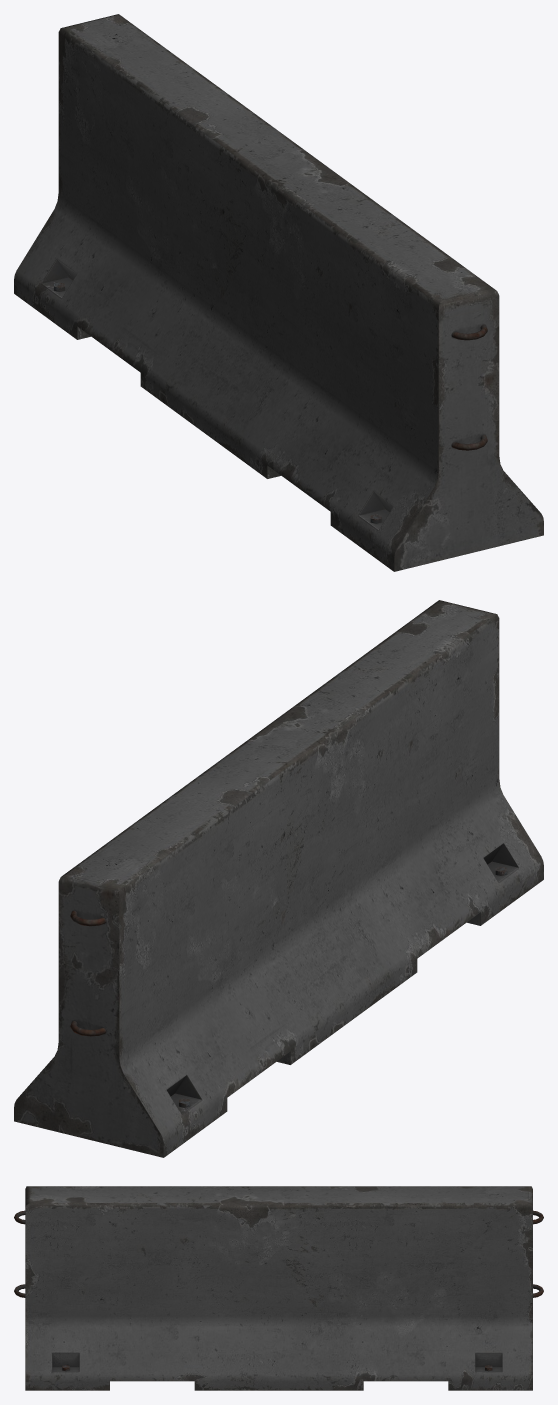
The model's file is fence.glb.
3 views of the same model, one above another, from view 1: azimuth 30°, elevation 25°; view 2: azimuth 150°, elevation 25°; view 3: azimuth 270°, elevation 25° (orthographic). The views are drawn at different scales.
Visible parts, largest first — view 1: ConcreteBarrier; view 2: ConcreteBarrier; view 3: ConcreteBarrier.
Boxes of the visible parts, x1,y1,x2,y2 form: ConcreteBarrier: [14, 14, 543, 571]; ConcreteBarrier: [14, 600, 543, 1157]; ConcreteBarrier: [14, 1186, 543, 1390].
Size of the model in its own units: 58.91 by 96.34 by 270.
1 material, 1 textured.
